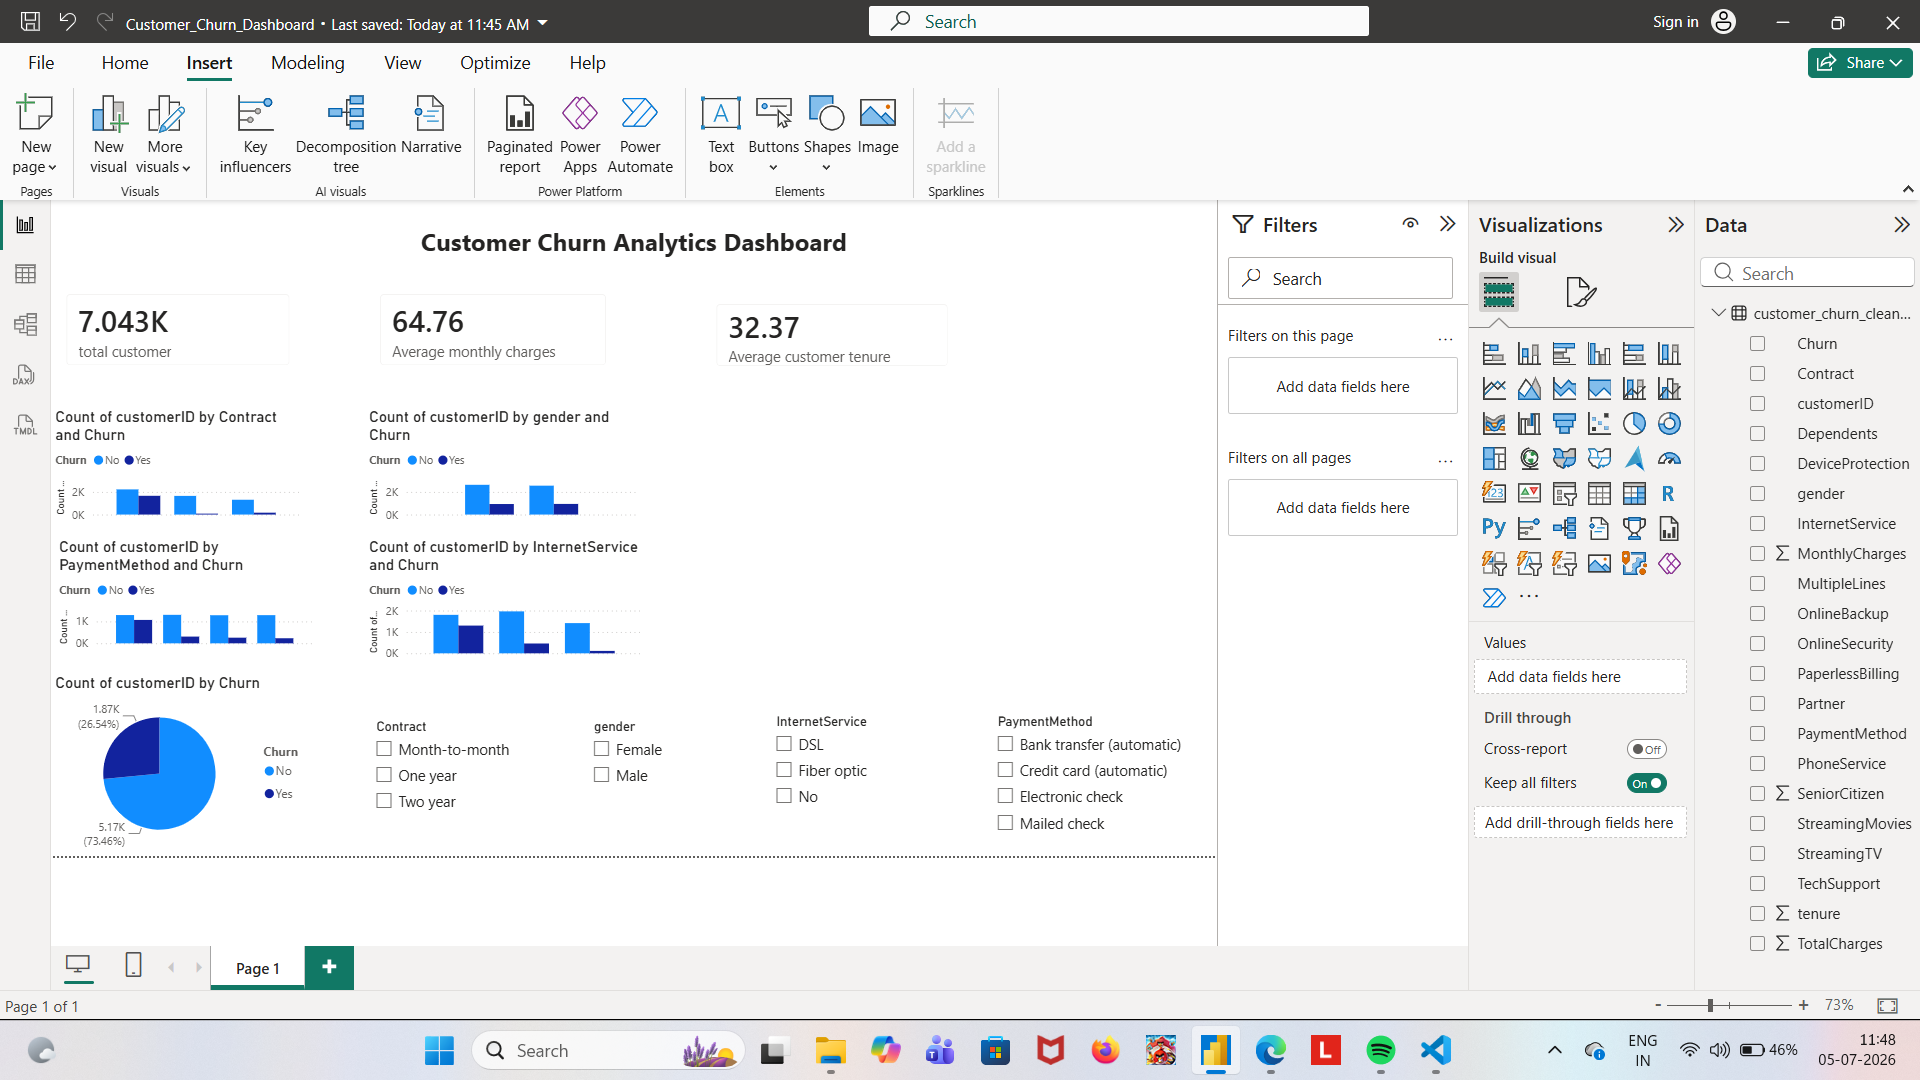

The page's visual inventory and layout, read from the dashboard file:
{"tool":"powerbi","page":{"name":"Page 1","canvas":[1280,720],"ordinal":0},"visuals":[{"type":"clusteredColumnChart","fields":{"Y":["CountNonNull(customer_churn_cleaned.customerID)"],"Category":["customer_churn_cleaned.Contract"],"Series":["customer_churn_cleaned.Churn"]},"box":[0,227.8,279.9,131.7],"z":0},{"type":"clusteredColumnChart","fields":{"Category":["customer_churn_cleaned.gender"],"Series":["customer_churn_cleaned.Churn"],"Y":["CountNonNull(customer_churn_cleaned.customerID)"]},"box":[344.4,227.8,306,131.7],"z":1000},{"type":"clusteredColumnChart","fields":{"Category":["customer_churn_cleaned.PaymentMethod"],"Series":["customer_churn_cleaned.Churn"],"Y":["CountNonNull(customer_churn_cleaned.customerID)"]},"box":[4.1,370.5,289.5,130.4],"z":2000},{"type":"clusteredColumnChart","fields":{"Series":["customer_churn_cleaned.Churn"],"Y":["CountNonNull(customer_churn_cleaned.customerID)"],"Category":["customer_churn_cleaned.InternetService"]},"box":[344.4,370.5,311.5,141.3],"z":3000},{"type":"pieChart","fields":{"Category":["customer_churn_cleaned.Churn"],"Y":["CountNonNull(customer_churn_cleaned.customerID)"]},"box":[0,520.1,296.4,200.3],"z":4000},{"type":"slicer","fields":{"Values":["customer_churn_cleaned.Contract"]},"box":[344.4,564,227.8,150.9],"z":5000},{"type":"slicer","fields":{"Values":["customer_churn_cleaned.gender"]},"box":[583.2,564,200.3,150.9],"z":6000},{"type":"slicer","fields":{"Values":["customer_churn_cleaned.InternetService"]},"box":[783.5,558.5,218.2,161.9],"z":7000},{"type":"slicer","fields":{"Values":["customer_churn_cleaned.PaymentMethod"]},"box":[1026.4,558.5,253.9,150.9],"z":8000},{"type":"cardVisual","fields":{"Data":["CountNonNull(customer_churn_cleaned.customerID)"]},"box":[0,86.4,279.9,112.5],"z":9000},{"type":"cardVisual","fields":{"Data":["Avg(customer_churn_cleaned.MonthlyCharges)"]},"box":[344.4,86.4,282.7,112.5],"z":10000},{"type":"cardVisual","fields":{"Data":["Avg(customer_churn_cleaned.tenure)"]},"box":[713.6,97.4,288.2,102.9],"z":11000},{"type":"textbox","box":[0,22,1280.3,75.5],"z":12000}]}

Visuals, with their boxes on the page's 1280x720 design canvas (x1, y1, x2, y2). These are canvas units, not pixel positions in the 1920x1080 screenshot, which may show the page scaled, cropped or inside an application window:
clusteredColumnChart - CountNonNull(customer_churn_cleaned.customerID) x customer_churn_cleaned.Contract: <region>0, 228, 280, 360</region>
clusteredColumnChart - customer_churn_cleaned.gender x customer_churn_cleaned.Churn: <region>344, 228, 650, 360</region>
clusteredColumnChart - customer_churn_cleaned.PaymentMethod x customer_churn_cleaned.Churn: <region>4, 370, 294, 501</region>
clusteredColumnChart - customer_churn_cleaned.Churn x CountNonNull(customer_churn_cleaned.customerID): <region>344, 370, 656, 512</region>
pieChart - customer_churn_cleaned.Churn x CountNonNull(customer_churn_cleaned.customerID): <region>0, 520, 296, 720</region>
slicer - customer_churn_cleaned.Contract: <region>344, 564, 572, 715</region>
slicer - customer_churn_cleaned.gender: <region>583, 564, 784, 715</region>
slicer - customer_churn_cleaned.InternetService: <region>784, 558, 1002, 720</region>
slicer - customer_churn_cleaned.PaymentMethod: <region>1026, 558, 1280, 709</region>
cardVisual - CountNonNull(customer_churn_cleaned.customerID): <region>0, 86, 280, 199</region>
cardVisual - Avg(customer_churn_cleaned.MonthlyCharges): <region>344, 86, 627, 199</region>
cardVisual - Avg(customer_churn_cleaned.tenure): <region>714, 97, 1002, 200</region>
textbox: <region>0, 22, 1280, 98</region>
